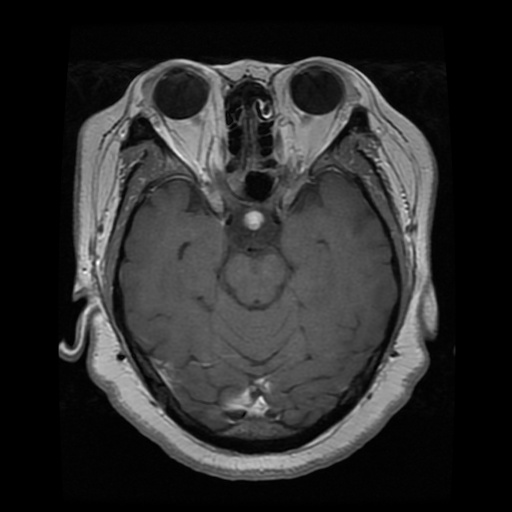pituitary: (241, 211, 266, 229)
